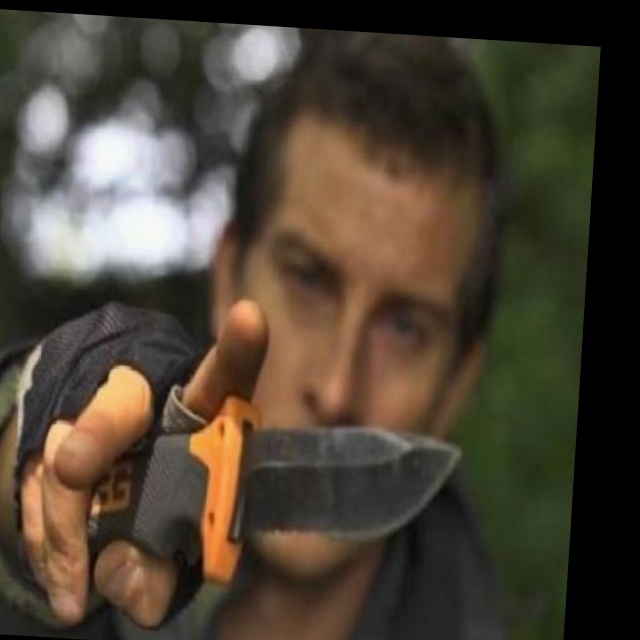Sharp-Object: (87, 389, 462, 603)
